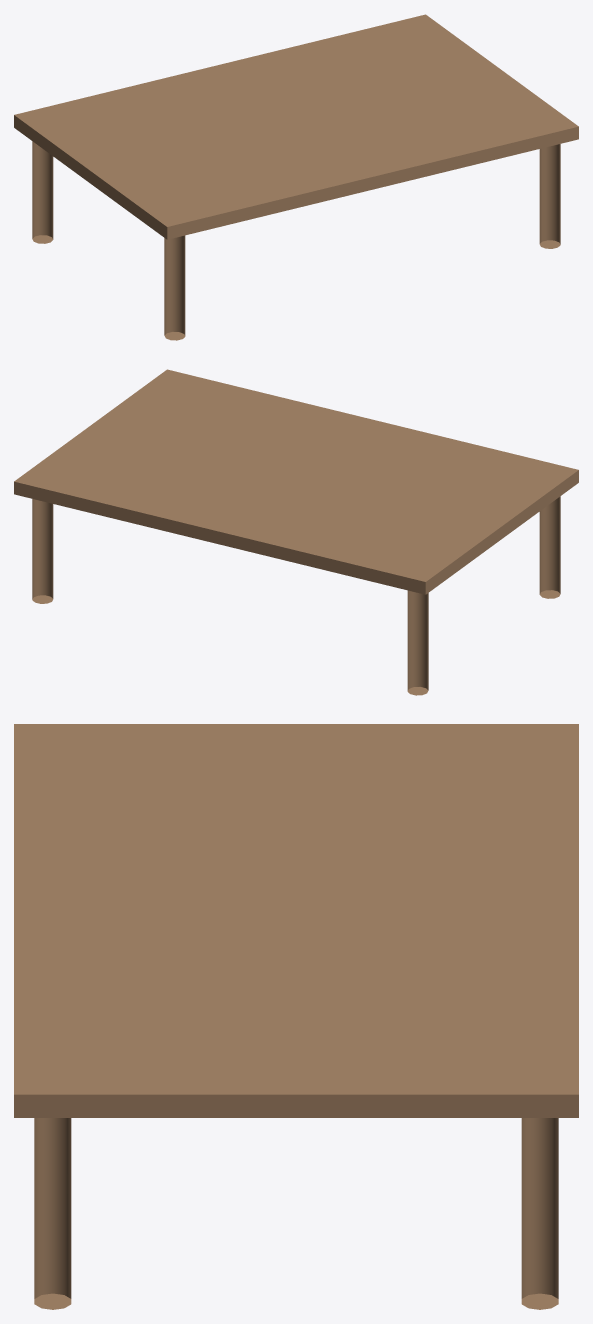
Rendered from coffee_table_10.glb.
The picture shows the model from 3 angles, top to bottom: view 1: azimuth 30°, elevation 25°; view 2: azimuth 150°, elevation 25°; view 3: azimuth 270°, elevation 25°; orthographic projection. The views are drawn at different scales.
Bounding box in the file's own units: 1.35 × 0.38 × 0.87.
